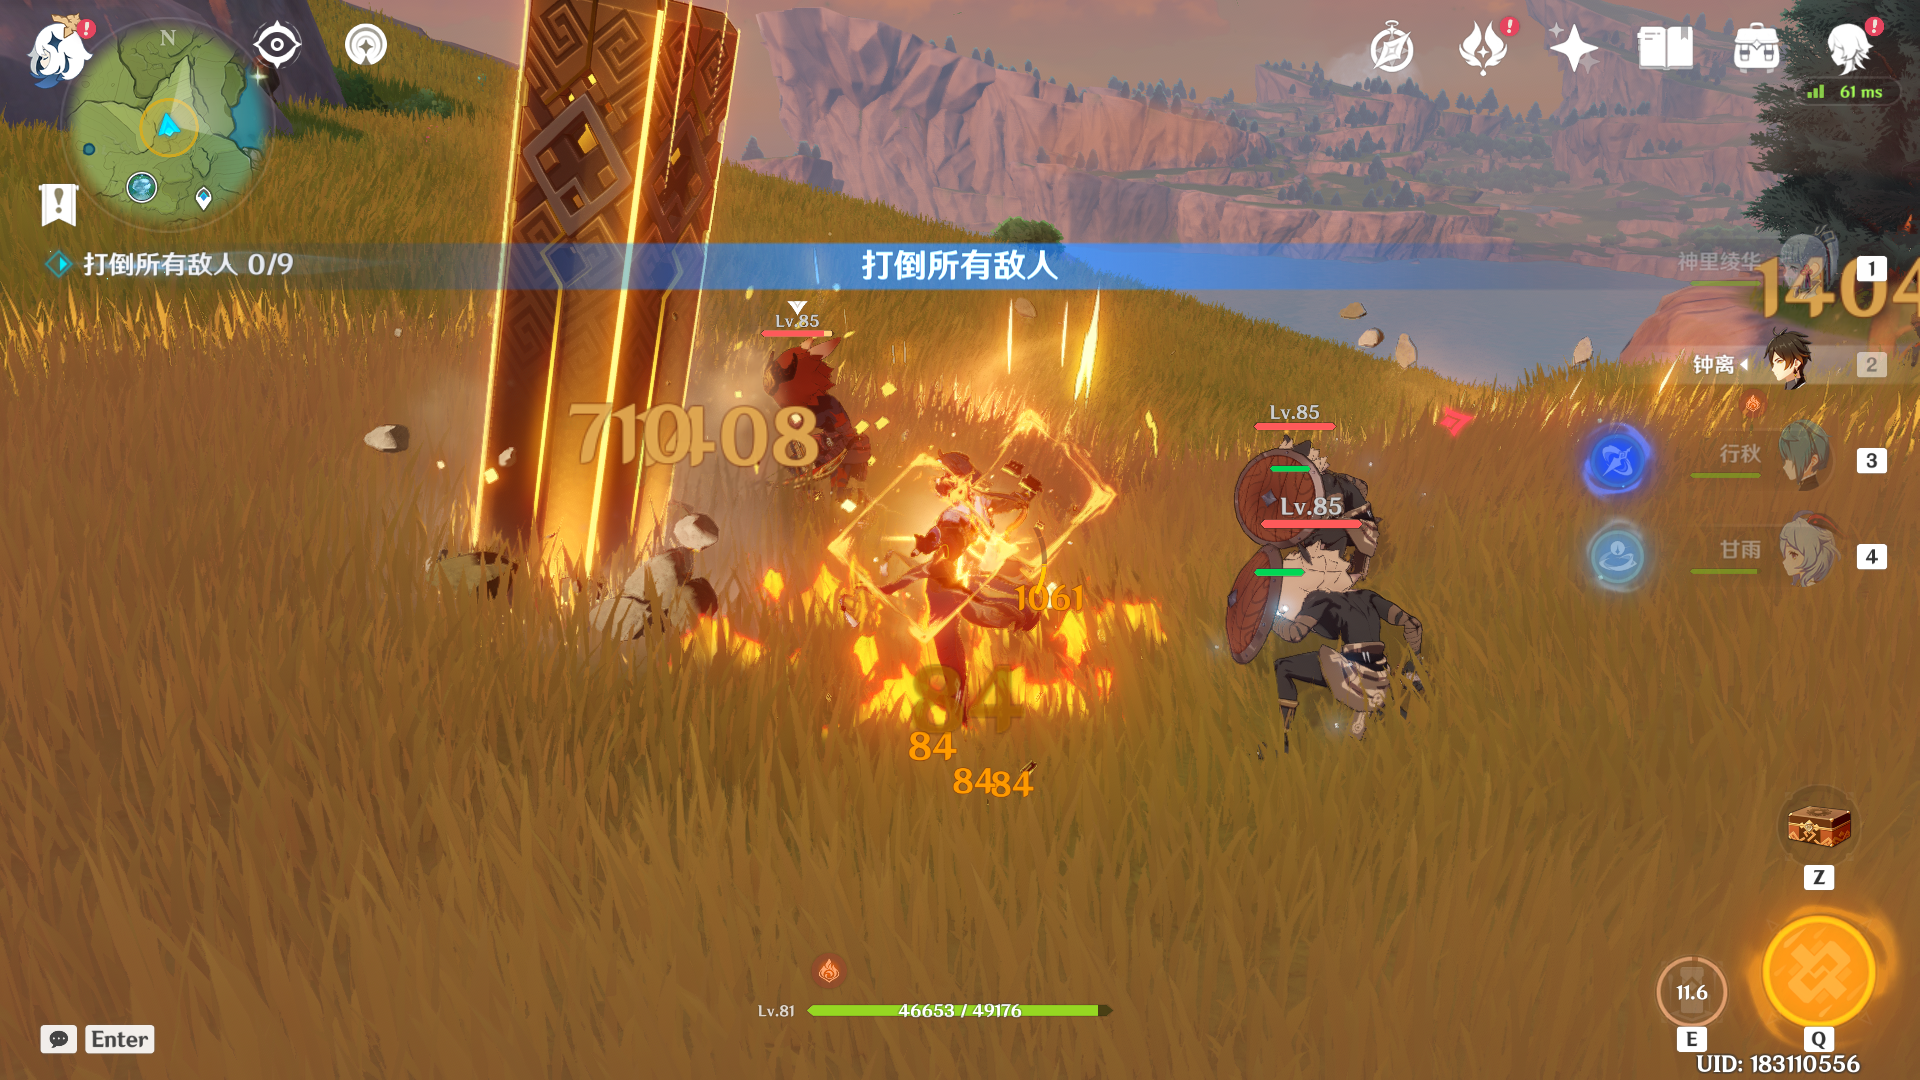character: (851, 423, 1087, 746)
hili: (1222, 509, 1445, 775), (727, 306, 897, 545), (1216, 440, 1391, 593)
